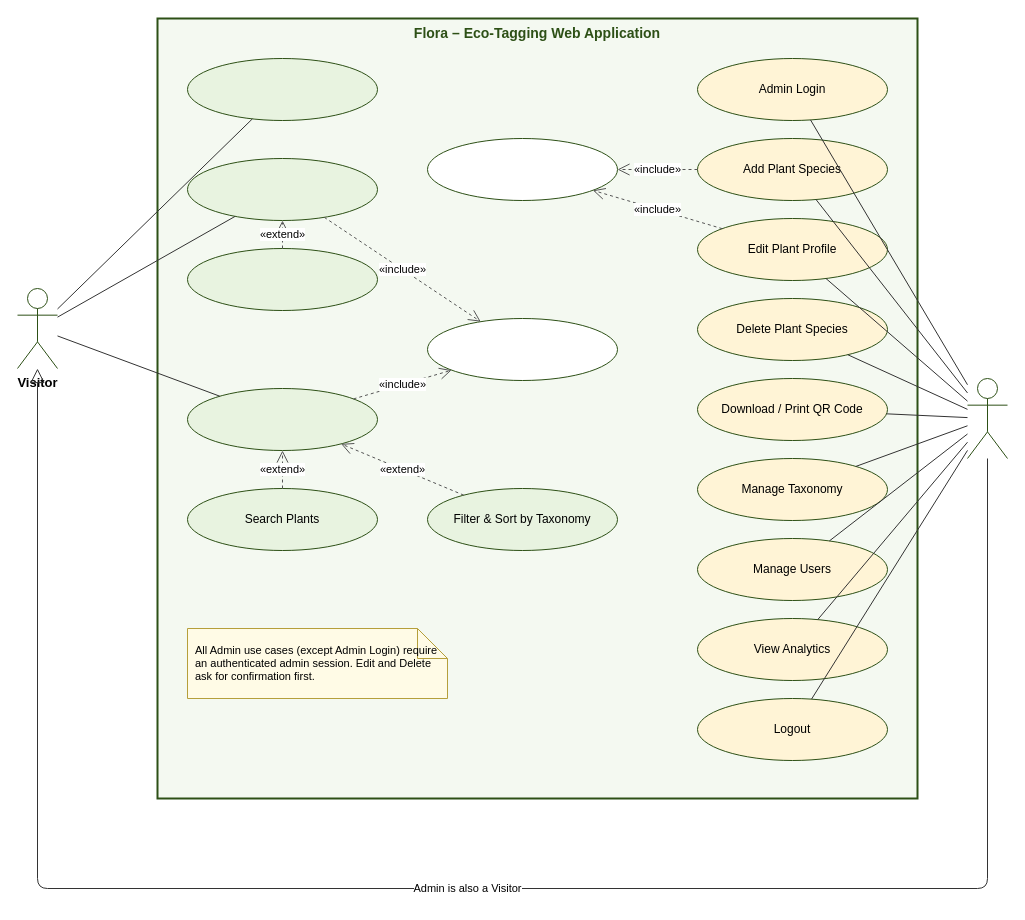
Some shapes in this 1025 by 920 pixel diagram are drawn without their labels. The shapes that lost their labels are listed below. From the top down, each one's centre as x and y in pixels, then its label:
the point at 282,89: View Homepage
the point at 282,189: Scan QR Code
the point at 522,169: Generate QR Code
the point at 282,279: Upload QR Image
the point at 522,349: View Plant Profile
the point at 282,419: Browse Plant Directory
the point at 987,418: Admin
